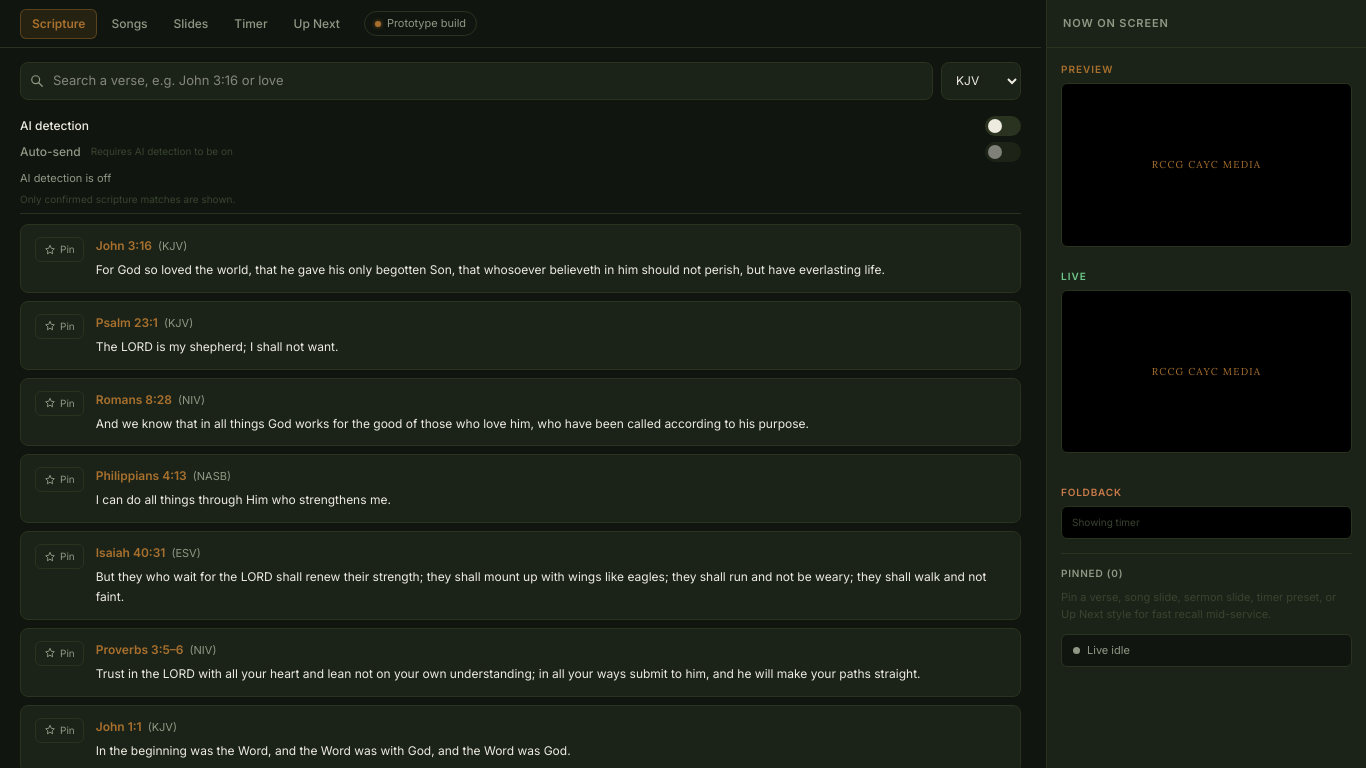
OperatorScreen Scripture integration (real component, not just the hook) › opening a reference via the search box shows the Group range and highlights it
Type "Mark 41:2-4" into the field with placeholder "Search a verse, e.g. John 3:16 or love".
click(476, 81); type("Mark 41:2-4")  # box [20,62,933,100]
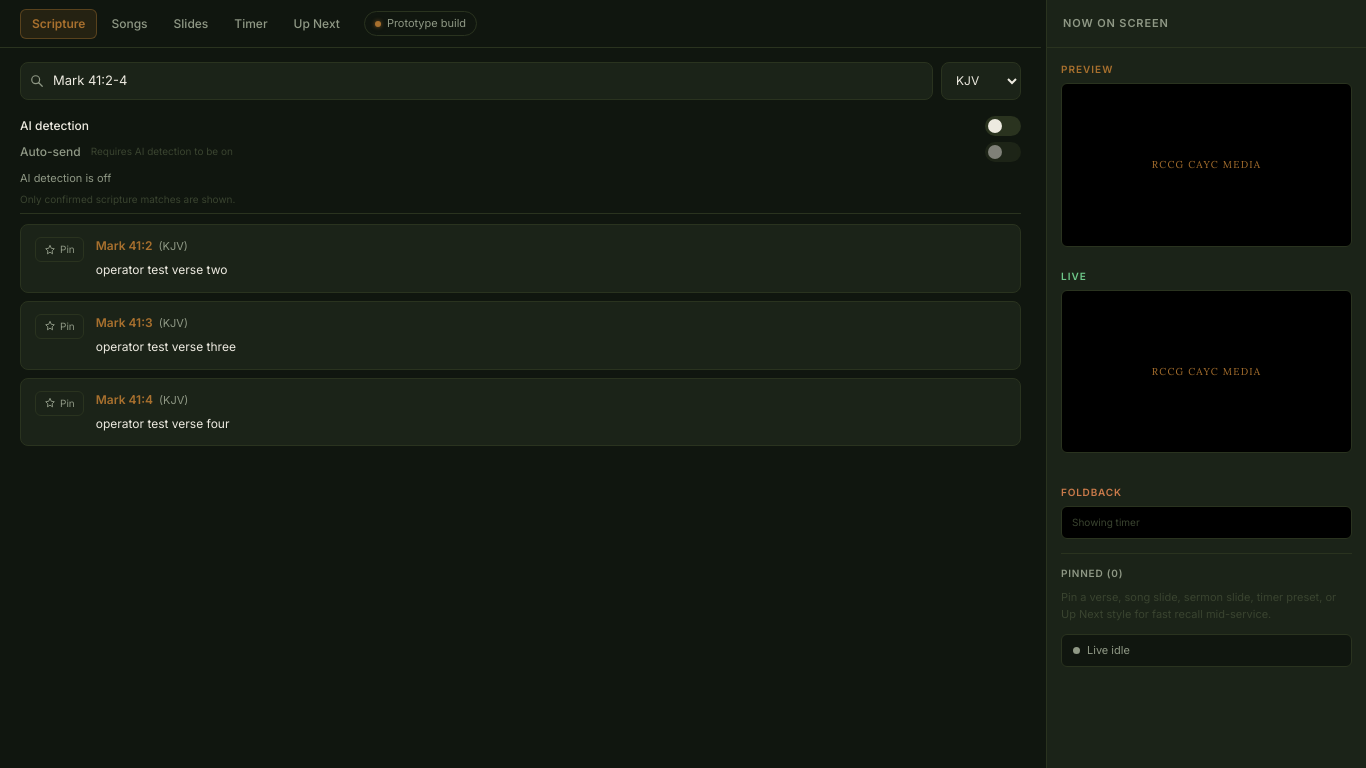
Press Enter in the field with placeholder "Search a verse, e.g. John 3:16 or love", box [20,62,933,100]
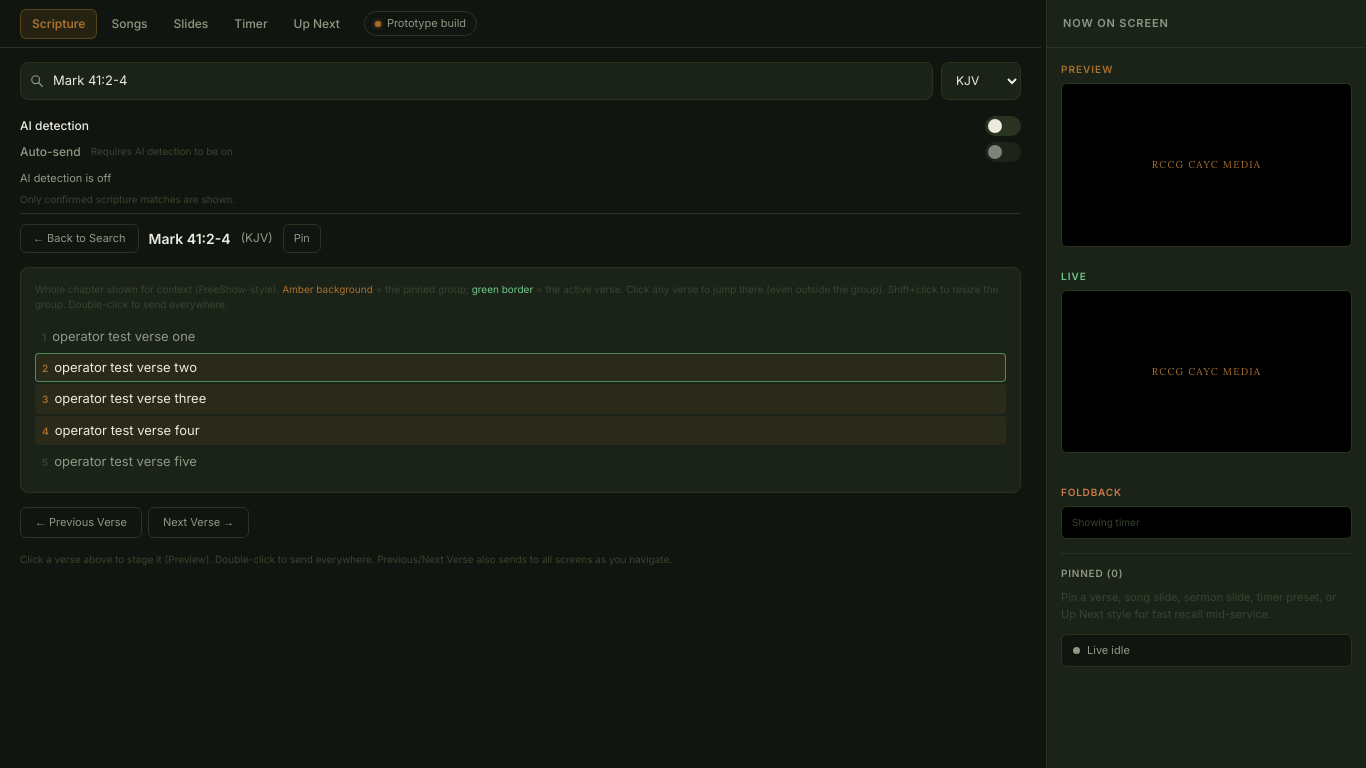
Expected: the button "← Back to Search" is shown, [20,224,139,252]
Expected: the text "Mark 41:2-4" is shown, [149,228,231,249]
